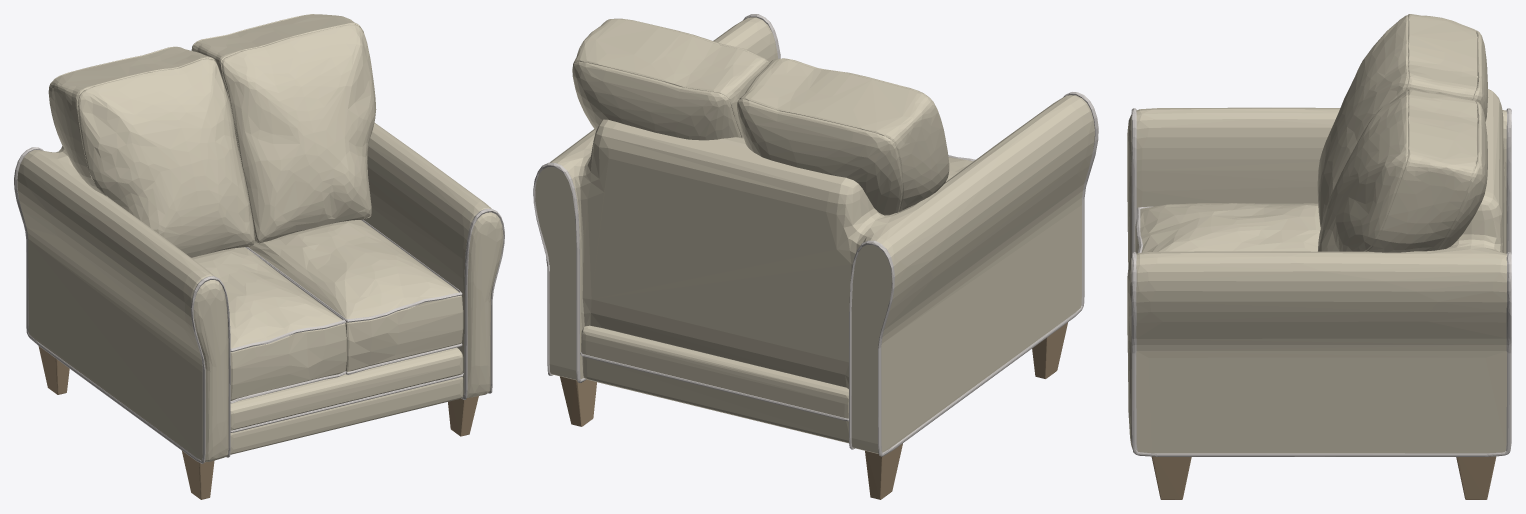
File: sh-bs0-sofa2.glb
3 views of the same model, side by side, from view 1: azimuth 30°, elevation 25°; view 2: azimuth 150°, elevation 25°; view 3: azimuth 270°, elevation 25° (orthographic). The views are drawn at different scales.
Parts seen in each view (by area): view 1: Sofa; view 2: Sofa; view 3: Sofa.
Boxes of the visible parts, bbox=[...] form: Sofa: bbox=[14, 14, 504, 499]; Sofa: bbox=[533, 14, 1098, 499]; Sofa: bbox=[1127, 14, 1511, 499].
Size of the model in its own units: 1 by 1 by 1.
